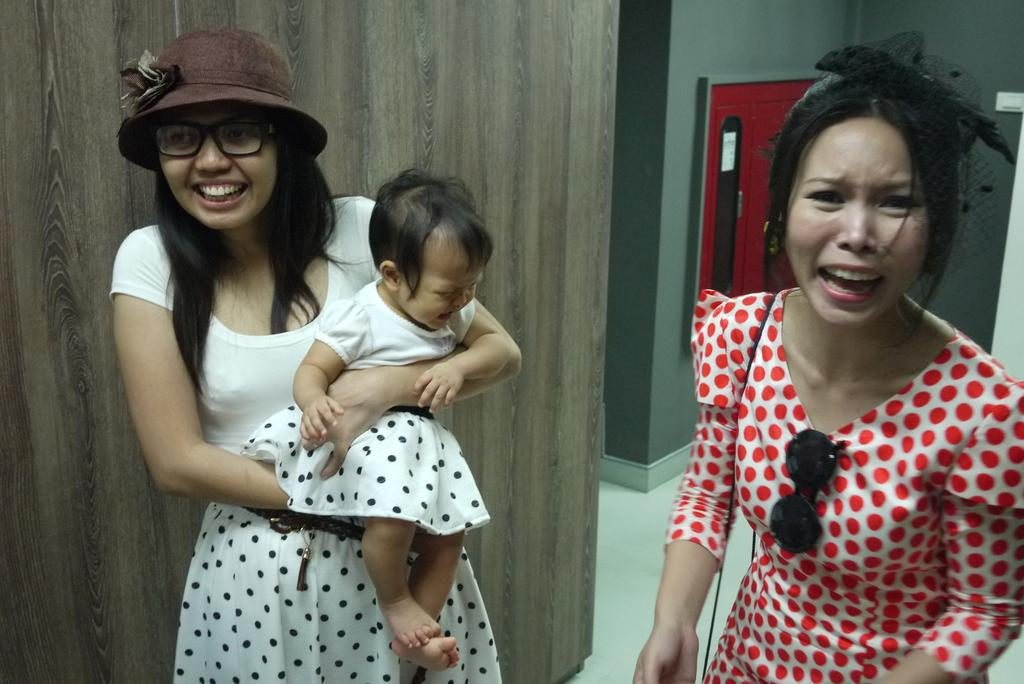Hat: (114, 29, 328, 174)
